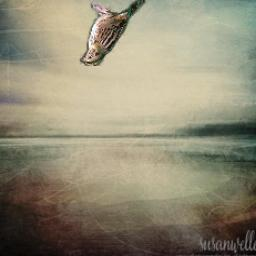Sparrow: (81, 0, 153, 66)
